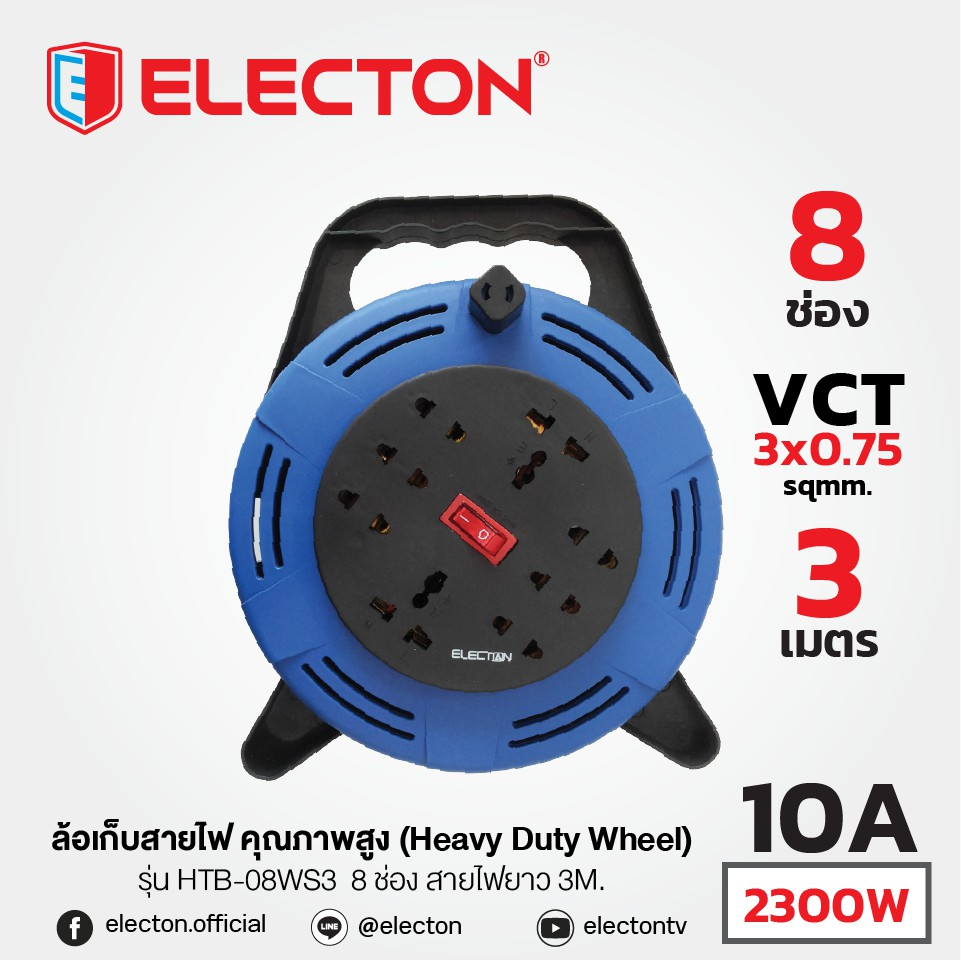Three_eye_plug: (205, 185, 753, 784)
